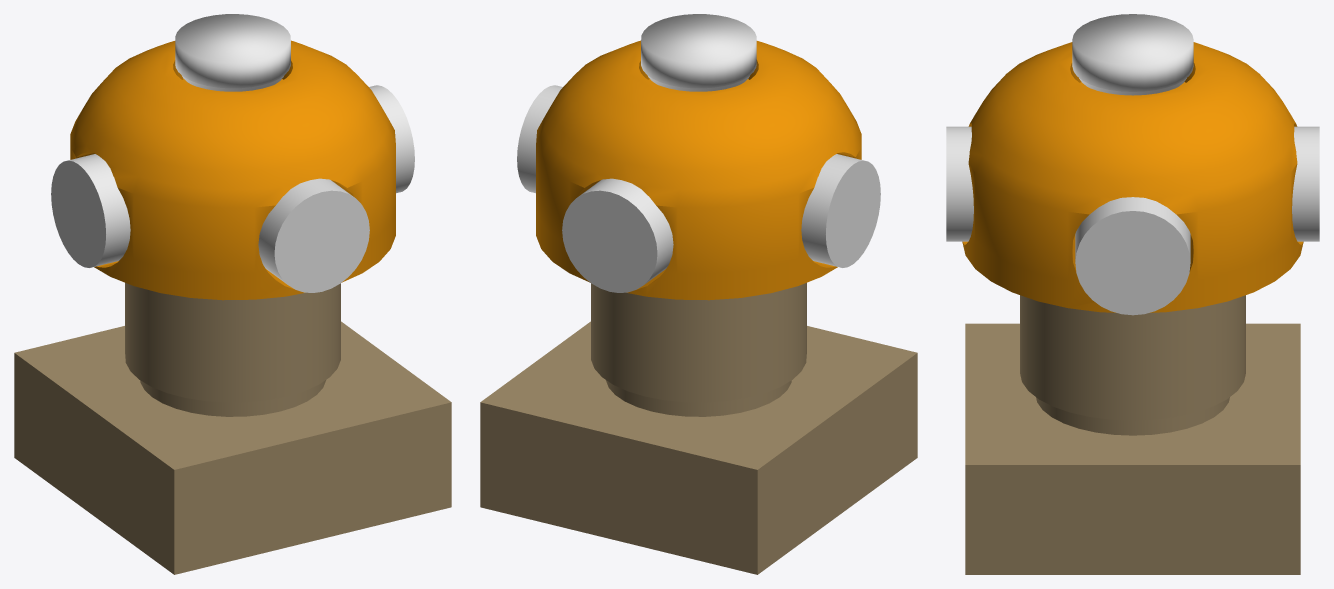
File: mushroom_3.glb
The picture shows the model from 3 angles, left to right: view 1: azimuth 30°, elevation 25°; view 2: azimuth 150°, elevation 25°; view 3: azimuth 270°, elevation 25°; orthographic projection. The views are drawn at different scales.
Visible parts, largest first — view 1: 立方体; view 2: 立方体; view 3: 立方体.
Boxes of the visible parts, x1,y1,x2,y2 form: 立方体: (14,14,451,574); 立方体: (480,14,917,574); 立方体: (946,14,1319,574).
Bounding box in the file's own units: 0.0881 × 0.121 × 0.0881.
